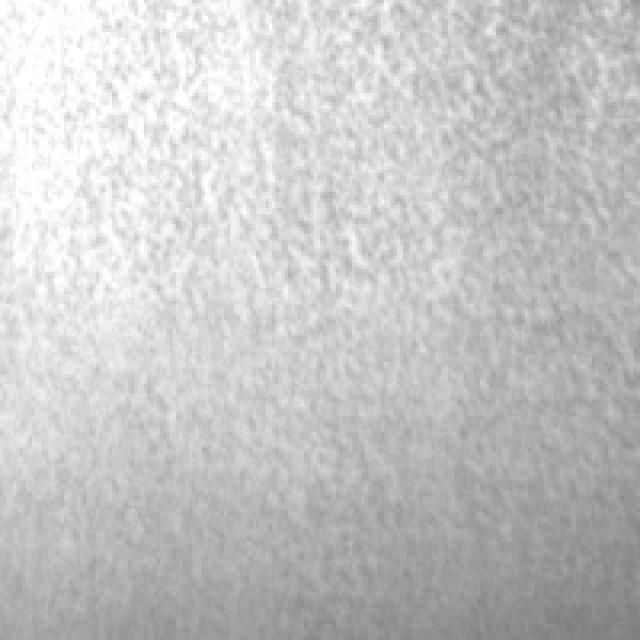pitted_surface: (0, 0, 633, 326)
